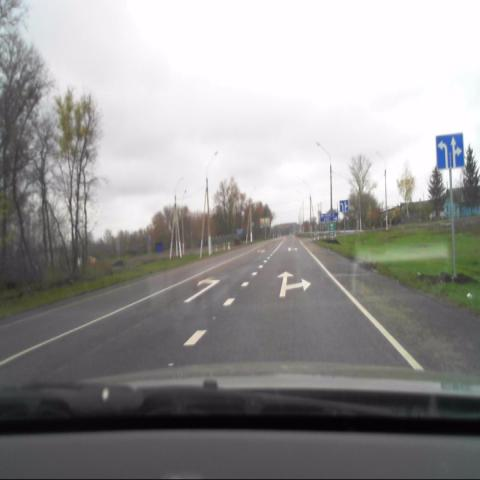5_15_2_2: (436, 135, 464, 170), (339, 199, 349, 213)
